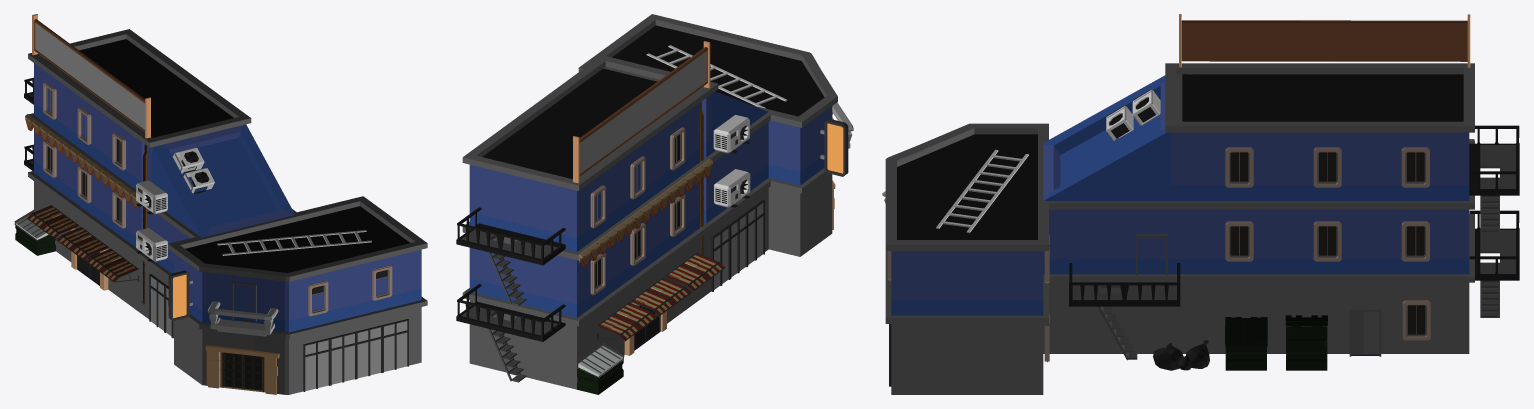
Rendered from House 10.fbx.
3 renders of one model, left to right at view 1: azimuth 30°, elevation 25°; view 2: azimuth 150°, elevation 25°; view 3: azimuth 270°, elevation 25°, orthographic. The views are drawn at different scales.
Parts seen in each view (by area): view 1: House 10; view 2: House 10; view 3: House 10.
Part boxes in pixels (x1,y1,x2,y2): House 10: [14, 14, 427, 394]; House 10: [456, 14, 853, 394]; House 10: [882, 14, 1519, 394].
Size of the model in its own units: 23 by 11.3 by 11.34.
